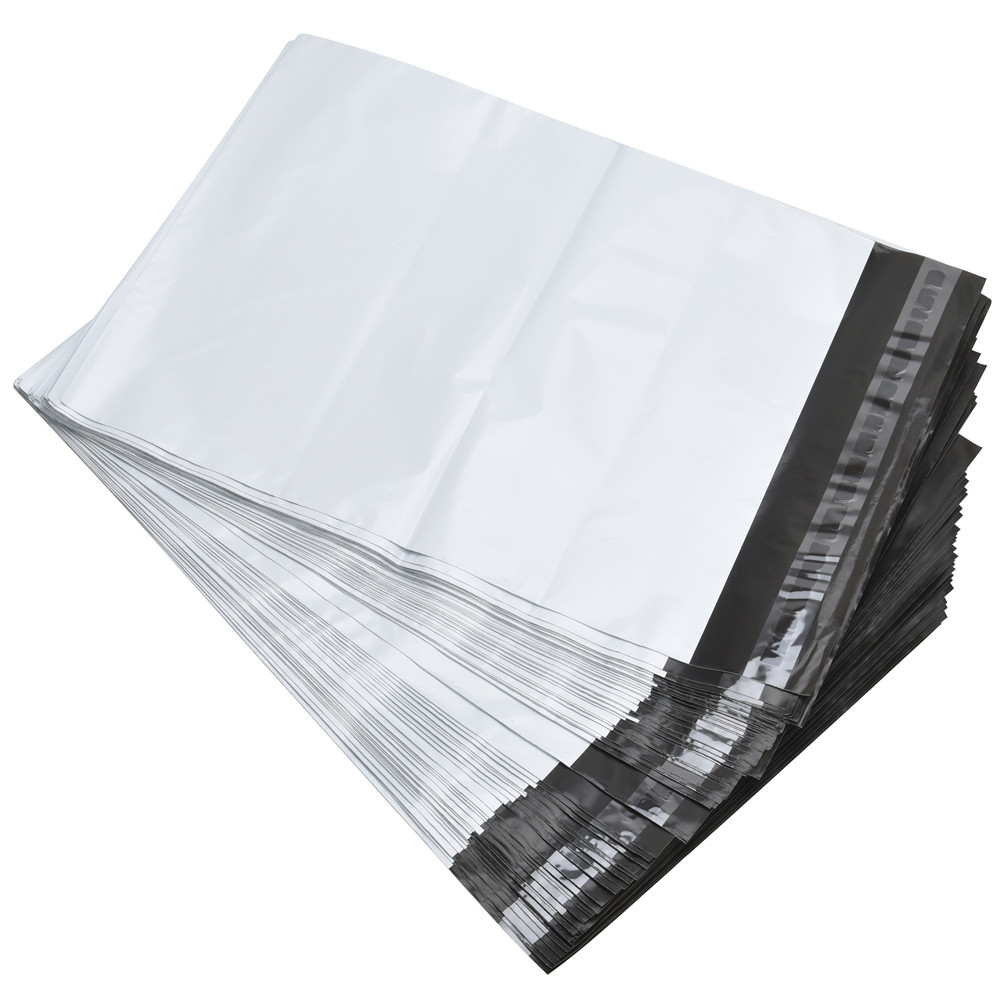塑料袋: (20, 37, 989, 969)
